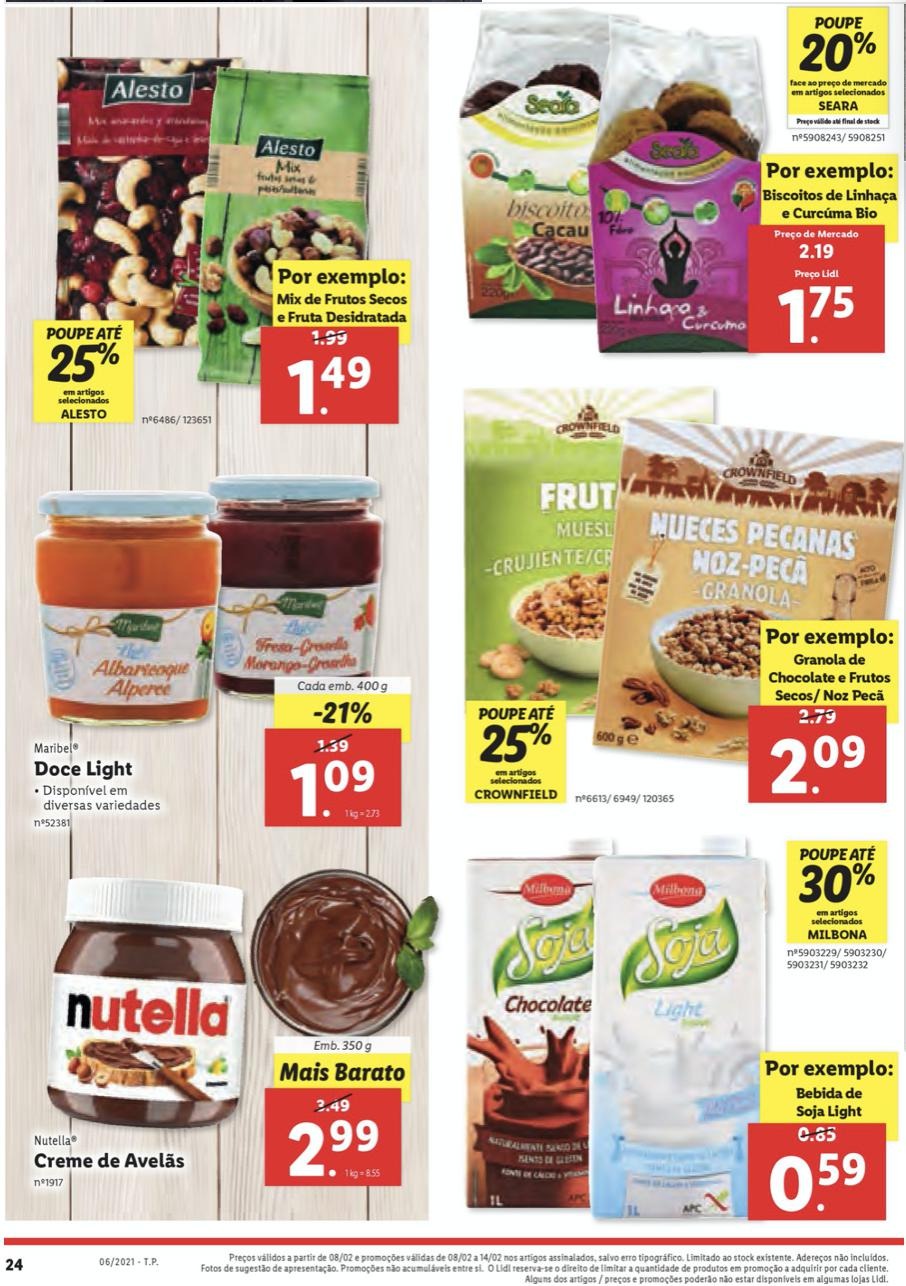name: (27, 1144, 189, 1175), (32, 755, 140, 786)
price: (764, 728, 868, 798), (278, 1117, 384, 1183), (768, 1150, 875, 1215), (283, 350, 379, 415), (771, 279, 867, 344), (287, 756, 384, 815)
product: (443, 367, 894, 820), (443, 820, 906, 1226), (21, 21, 422, 442), (441, 2, 894, 369), (16, 842, 438, 1212), (22, 453, 424, 839)
promotion: (792, 29, 879, 75), (476, 721, 554, 771), (797, 863, 879, 910)
